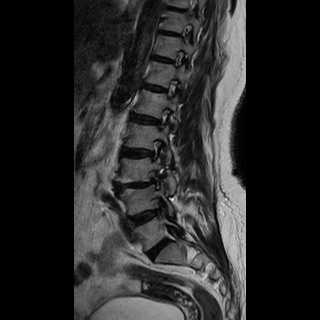LFS2: (144, 134, 169, 166)
LFS3: (142, 167, 168, 197)
